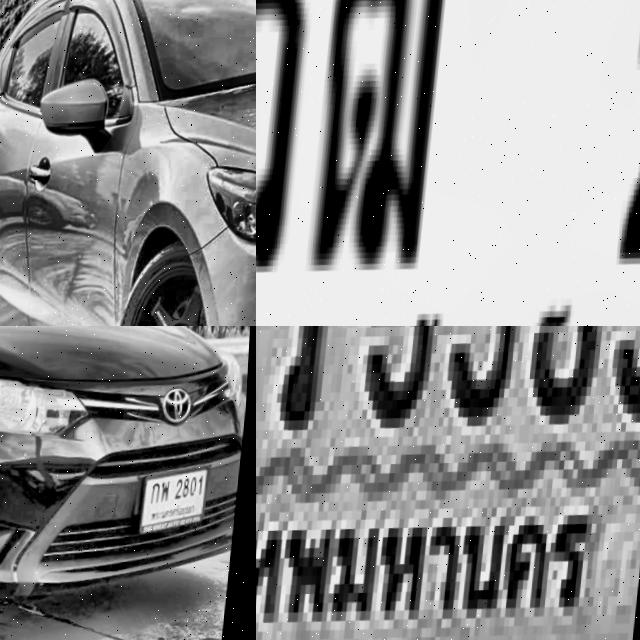license-plate: (256, 0, 640, 326), (256, 326, 640, 640), (137, 468, 220, 549)
